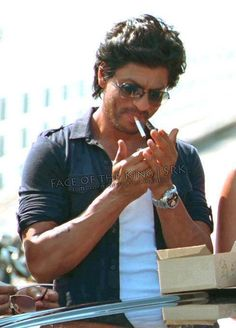cigarette: (129, 113, 150, 138)
